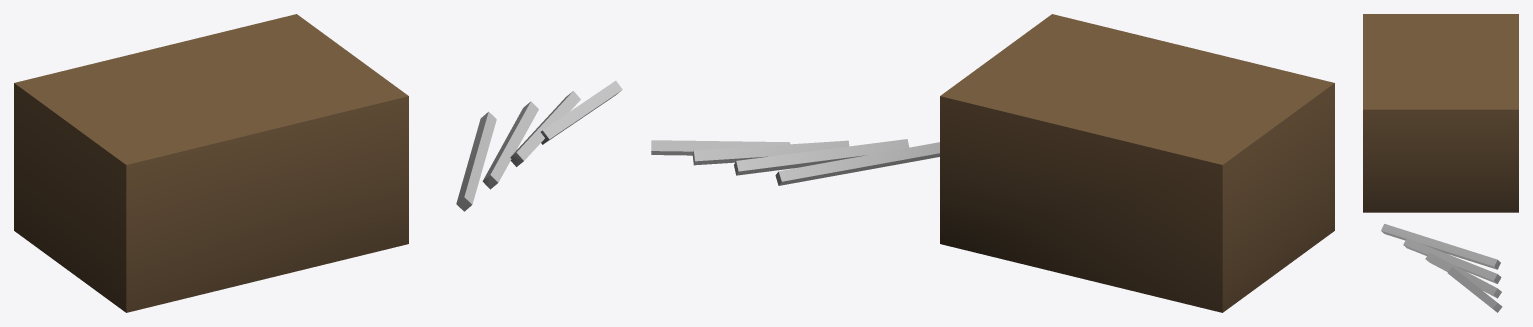
The model's file is clavos.glb.
3 views of the same model, side by side, from view 1: azimuth 30°, elevation 25°; view 2: azimuth 150°, elevation 25°; view 3: azimuth 270°, elevation 25° (orthographic). The views are drawn at different scales.
Parts seen in each view (by area): view 1: clavos; view 2: clavos; view 3: clavos.
Boxes of the visible parts, x1,y1,x2,y2 form: clavos: (14, 14, 622, 312); clavos: (651, 14, 1334, 312); clavos: (1363, 14, 1518, 312).
Bounding box in the file's own units: 0.1669 × 0.04 × 0.055.
